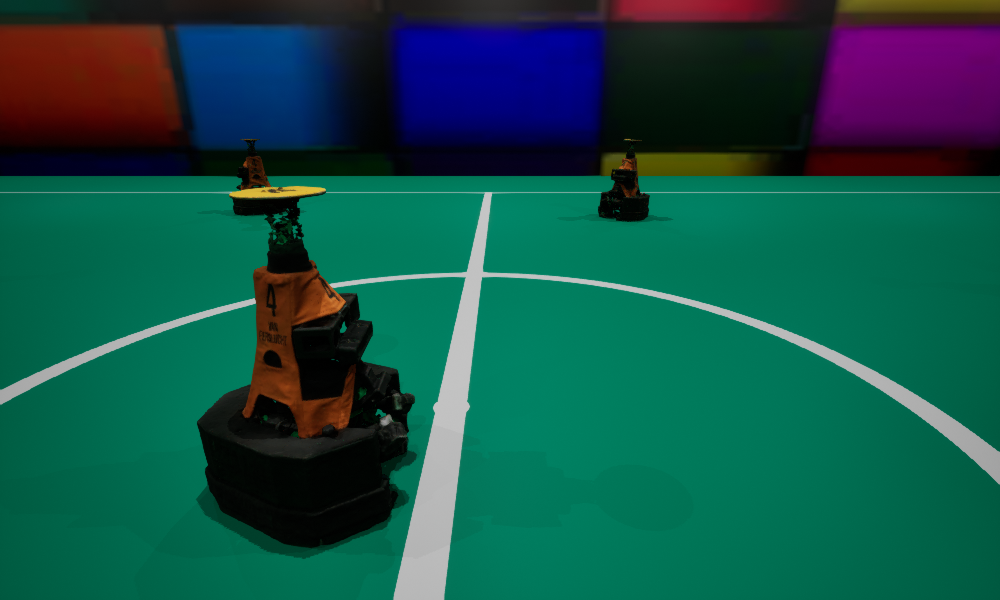0 orange robot TechUnited: (197, 186, 414, 547), (598, 139, 649, 220), (233, 139, 286, 214)
